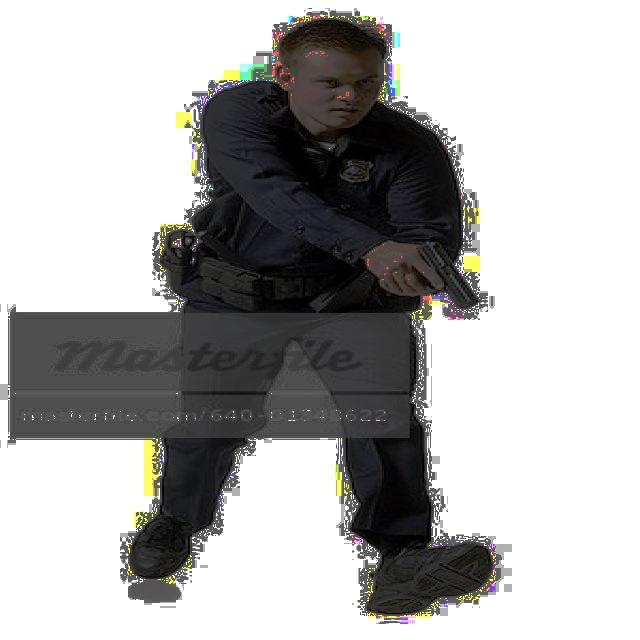Gun: (402, 228, 478, 310)
